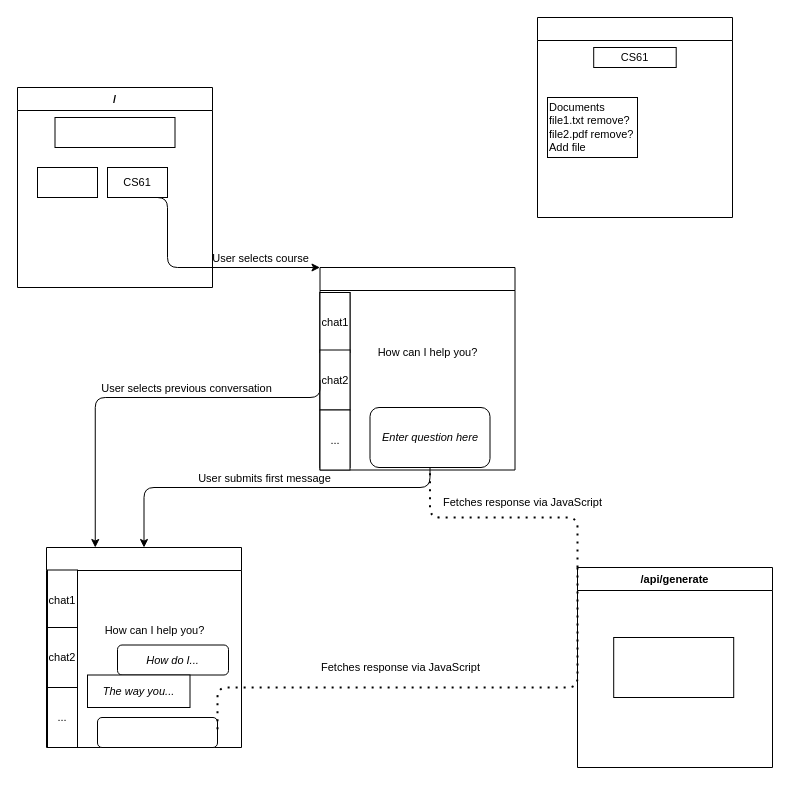
The diagram is 790 pixels wide and 785 high, and some of its shapes have lost their labels. The shapes that lost their labels are listed below. From the top down, each one's box as (x1, y1, x2, y2) in pixels, then its label:
(54, 116, 175, 148): Select a Course
(536, 16, 732, 218): /course/<course_id>/documents
(36, 166, 98, 198): CS09A
(319, 266, 515, 470): /course/<course_id>/chat
(46, 546, 242, 748): /conversation/<conversation_id>
(613, 636, 734, 698): JSON in, JSON out
(96, 716, 218, 748): Enter message here
